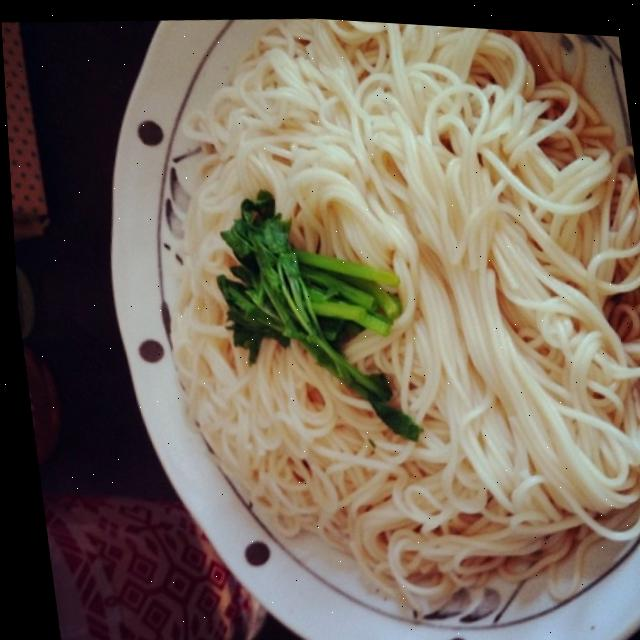面条主食: (52, 2, 640, 640)
